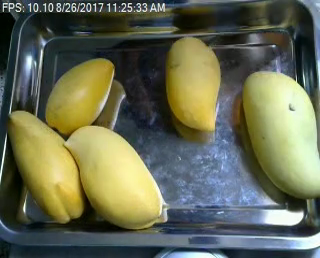Mango: (239, 70, 320, 200), (65, 124, 164, 228), (6, 110, 81, 223), (44, 56, 114, 131), (166, 35, 220, 132)
